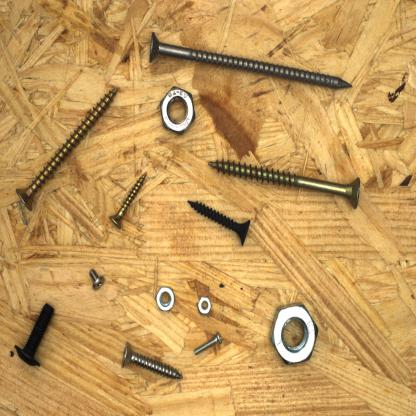screw: (13, 84, 121, 215), (146, 30, 358, 94), (207, 159, 366, 212), (10, 298, 57, 372), (185, 198, 254, 247), (119, 339, 185, 382), (108, 169, 150, 231), (192, 330, 224, 355), (87, 264, 105, 292)
